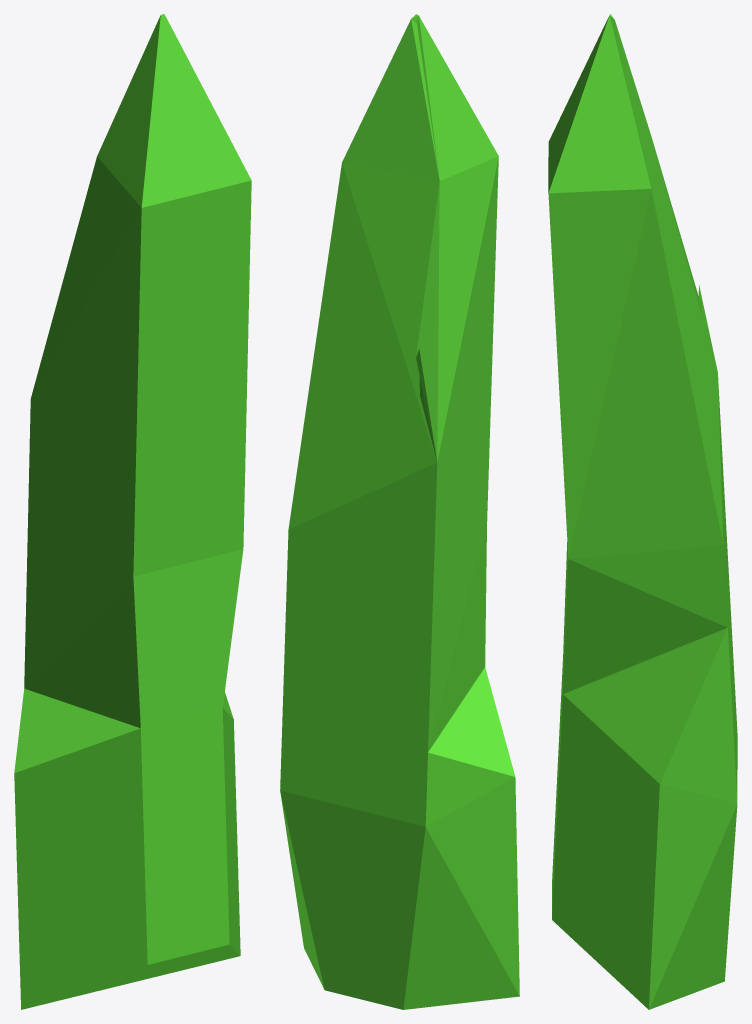
The picture shows the model from 3 angles, left to right: view 1: azimuth 30°, elevation 25°; view 2: azimuth 150°, elevation 25°; view 3: azimuth 270°, elevation 25°; orthographic projection. The views are drawn at different scales.
Visible parts, largest first — view 1: Cube; view 2: Cube; view 3: Cube.
Boxes of the visible parts, box(x1,y1,x2,y2) form: Cube: box(14, 14, 251, 1009); Cube: box(280, 14, 519, 1009); Cube: box(548, 14, 737, 1009).
Bounding box in the file's own units: 2.95 × 2.23 × 12.38.
